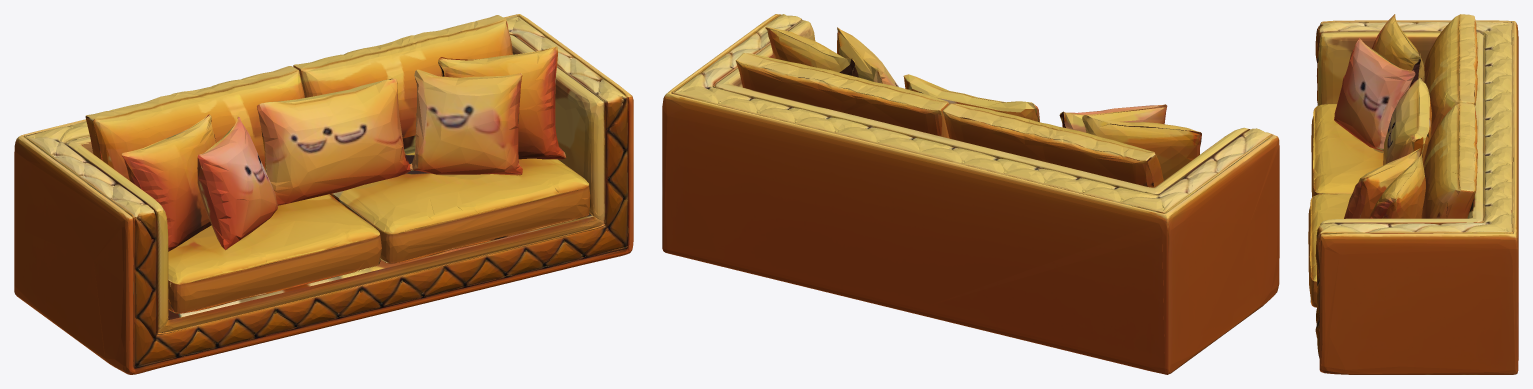
File: edited_mesh.glb
3 renders of one model, left to right at view 1: azimuth 30°, elevation 25°; view 2: azimuth 150°, elevation 25°; view 3: azimuth 270°, elevation 25°, orthographic. The views are drawn at different scales.
Visible parts, largest first — view 1: solid_001_wire; view 2: solid_001_wire; view 3: solid_001_wire.
Boxes of the visible parts, x1,y1,x2,y2 form: solid_001_wire: [14, 14, 633, 374]; solid_001_wire: [662, 14, 1279, 374]; solid_001_wire: [1308, 14, 1518, 374].
Bounding box in the file's own units: 2 × 0.7095 × 0.8163.
Materials: 1 (1 with a texture image).
